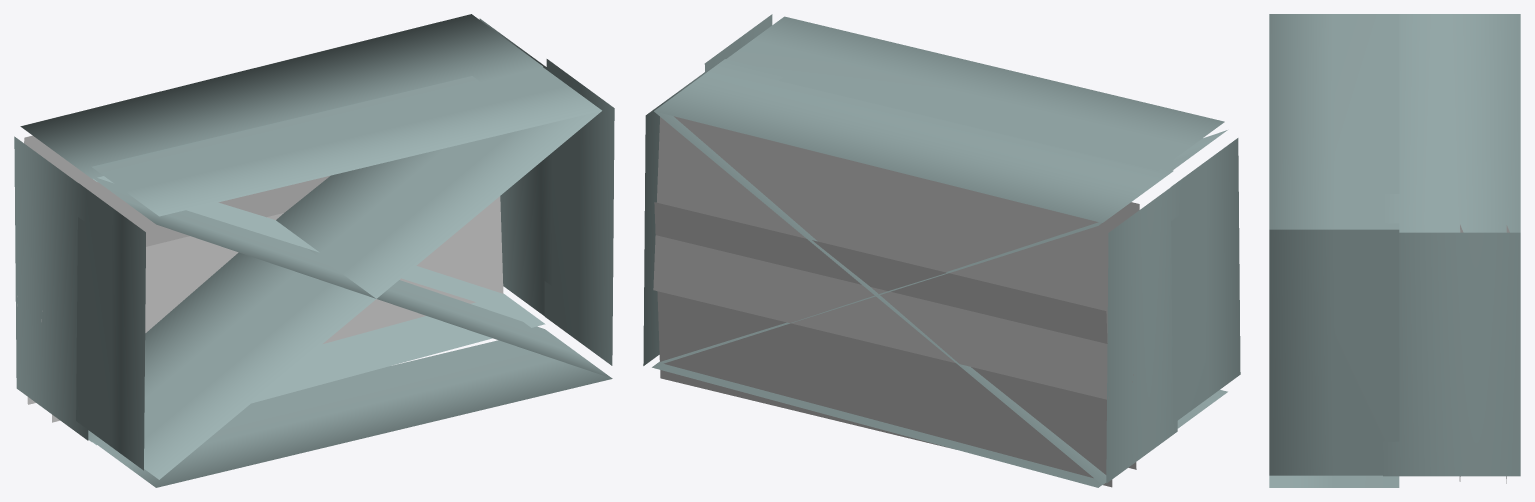
The model's file is SM_000019_tr122_leaf01_lv1.fbx.
3 views of the same model, side by side, from view 1: azimuth 30°, elevation 25°; view 2: azimuth 150°, elevation 25°; view 3: azimuth 270°, elevation 25° (orthographic). The views are drawn at different scales.
Parts seen in each view (by area): view 1: SM_000019.001; view 2: SM_000019.001; view 3: SM_000019.001.
Boxes of the visible parts, <box> form: SM_000019.001: <box>14,14,614,487</box>; SM_000019.001: <box>643,14,1240,487</box>; SM_000019.001: <box>1269,14,1520,487</box>.
Size of the model in its own units: 2.24 by 1.26 by 1.08.
